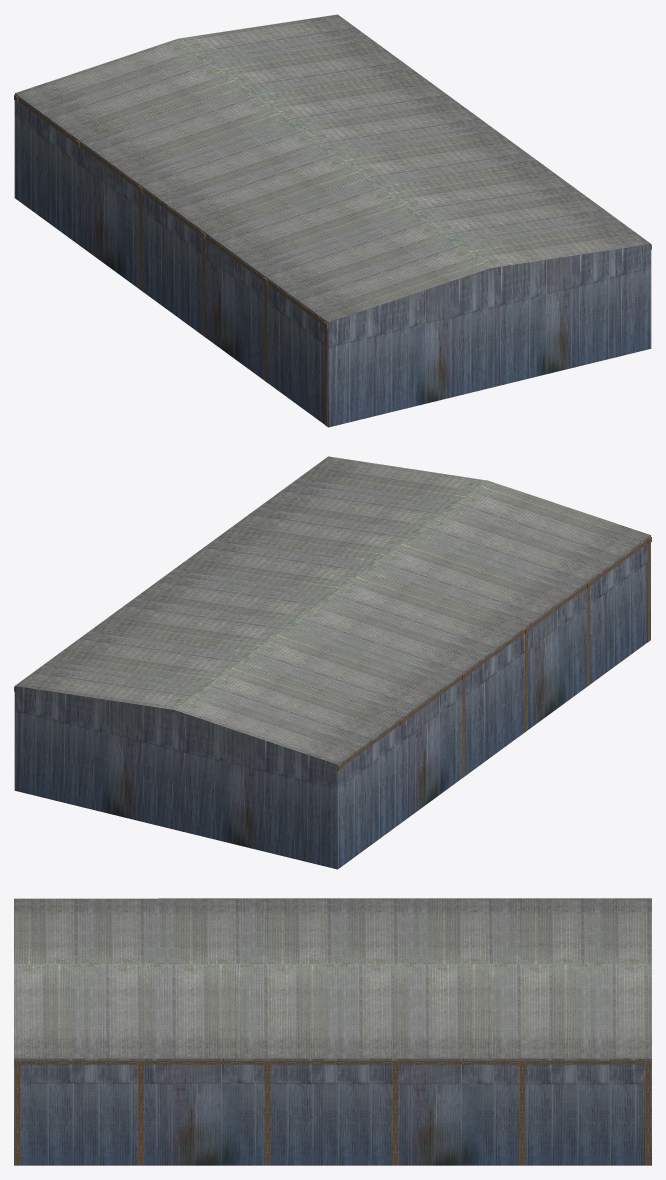
File: warehouse_bare.fbx
3 views of the same model, one above another, from view 1: azimuth 30°, elevation 25°; view 2: azimuth 150°, elevation 25°; view 3: azimuth 270°, elevation 25° (orthographic).
Parts seen in each view (by area): view 1: roof, $walls, rafters, $columns; view 2: roof, $walls, rafters, $columns; view 3: roof, $walls, $columns, rafters.
Part boxes in pixels (<box>): roof: <box>15,14,650,322</box>; $walls: <box>14,93,651,427</box>; rafters: <box>14,95,651,328</box>; $columns: <box>139,192,327,426</box>; roof: <box>15,456,650,764</box>; $walls: <box>14,535,650,869</box>; rafters: <box>14,537,651,770</box>; $columns: <box>462,543,650,777</box>; roof: <box>14,898,651,1058</box>; $walls: <box>14,1058,651,1165</box>; $columns: <box>15,1065,650,1165</box>; rafters: <box>14,1060,651,1065</box>.
Size of the model in its own units: 5634 by 9416 by 1984.
